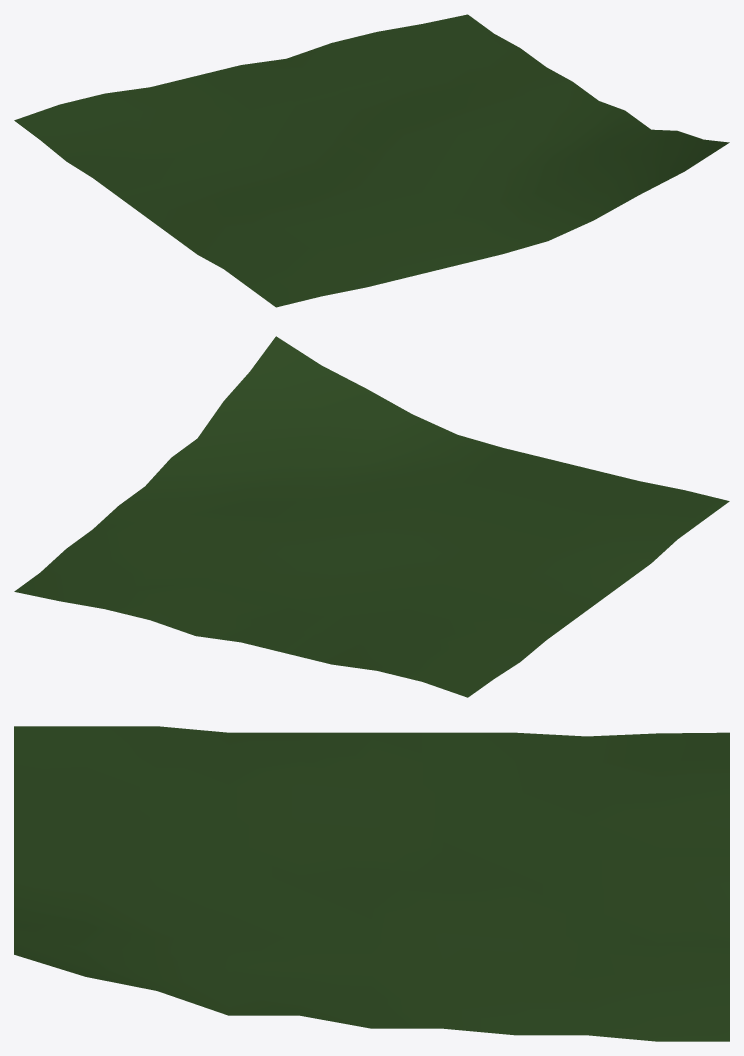
3 renders of one model, top to bottom at view 1: azimuth 30°, elevation 25°; view 2: azimuth 150°, elevation 25°; view 3: azimuth 270°, elevation 25°, orthographic. The views are drawn at different scales.
Parts seen in each view (by area): view 1: TerrainModel.067; view 2: TerrainModel.067; view 3: TerrainModel.067.
Boxes of the visible parts, left/top/right/bottom form: TerrainModel.067: left=14, top=14, right=729, bottom=307; TerrainModel.067: left=14, top=336, right=729, bottom=697; TerrainModel.067: left=14, top=726, right=729, bottom=1041.
Bounding box in the file's own units: 19608 × 2632 × 19608.
